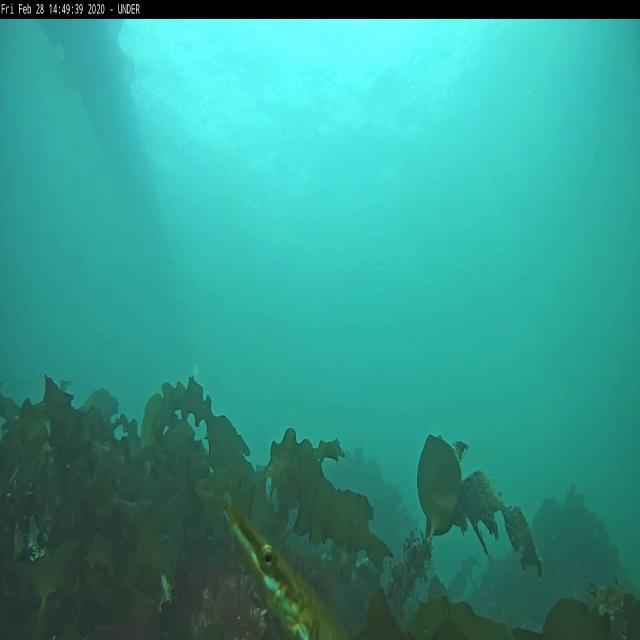fish: (224, 506, 346, 638)
